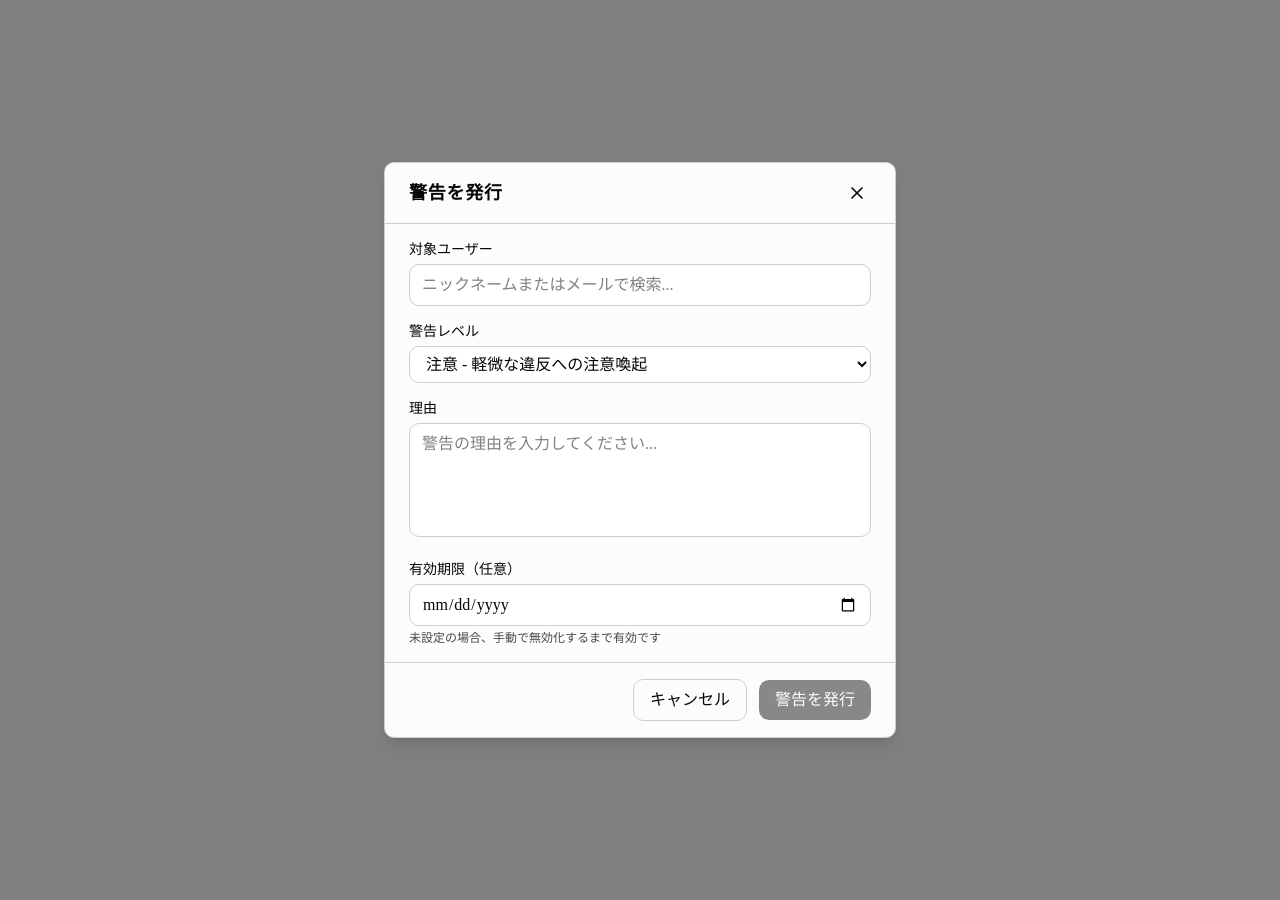
Scenario: IssueWarningDialog › selects user and clears search
In the field with placeholder "ニックネームまたはメールで検索...": (640, 285) x1=409 y1=264 x2=871 y2=306, type "Nick"
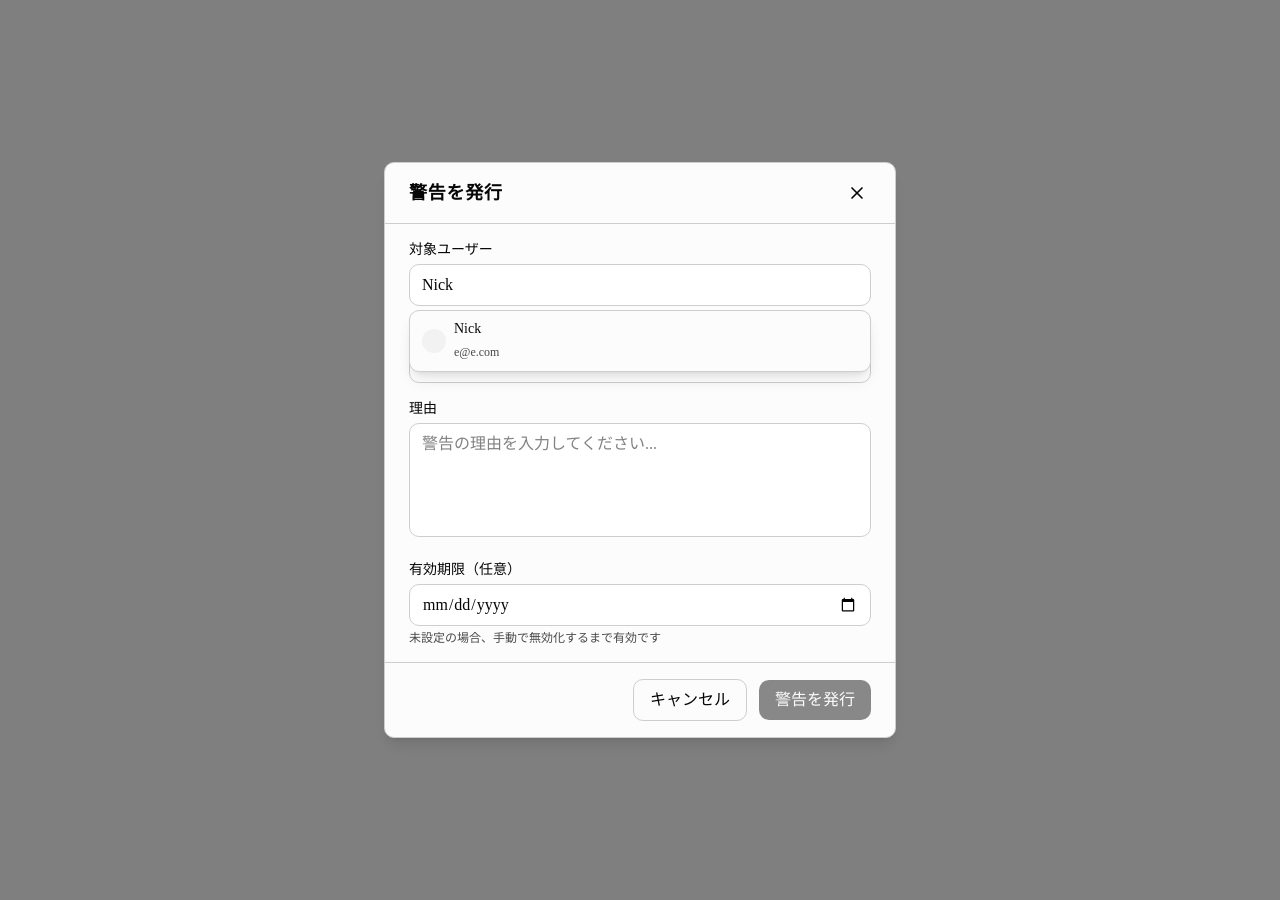
Expected: the text "Nick" is shown, x1=454 y1=321 x2=481 y2=336
Note: Click to select user
Click the button "Nick e@e.com": (477, 352) x1=410 y1=311 x2=870 y2=371
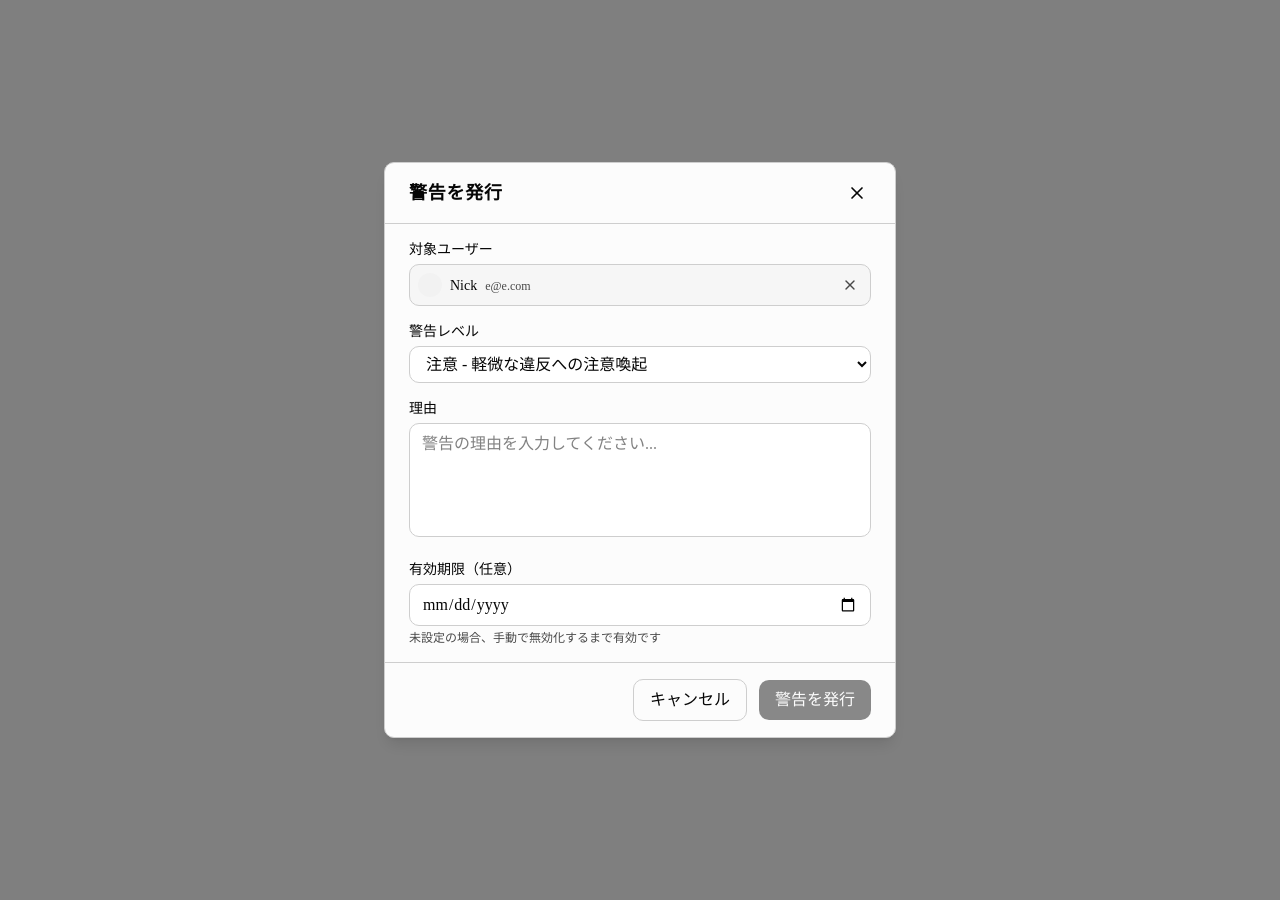
Expected: the text "Nick" is shown, x1=450 y1=278 x2=477 y2=293
Expected: the field with placeholder "ニックネームまたはメールで検索..." is gone
